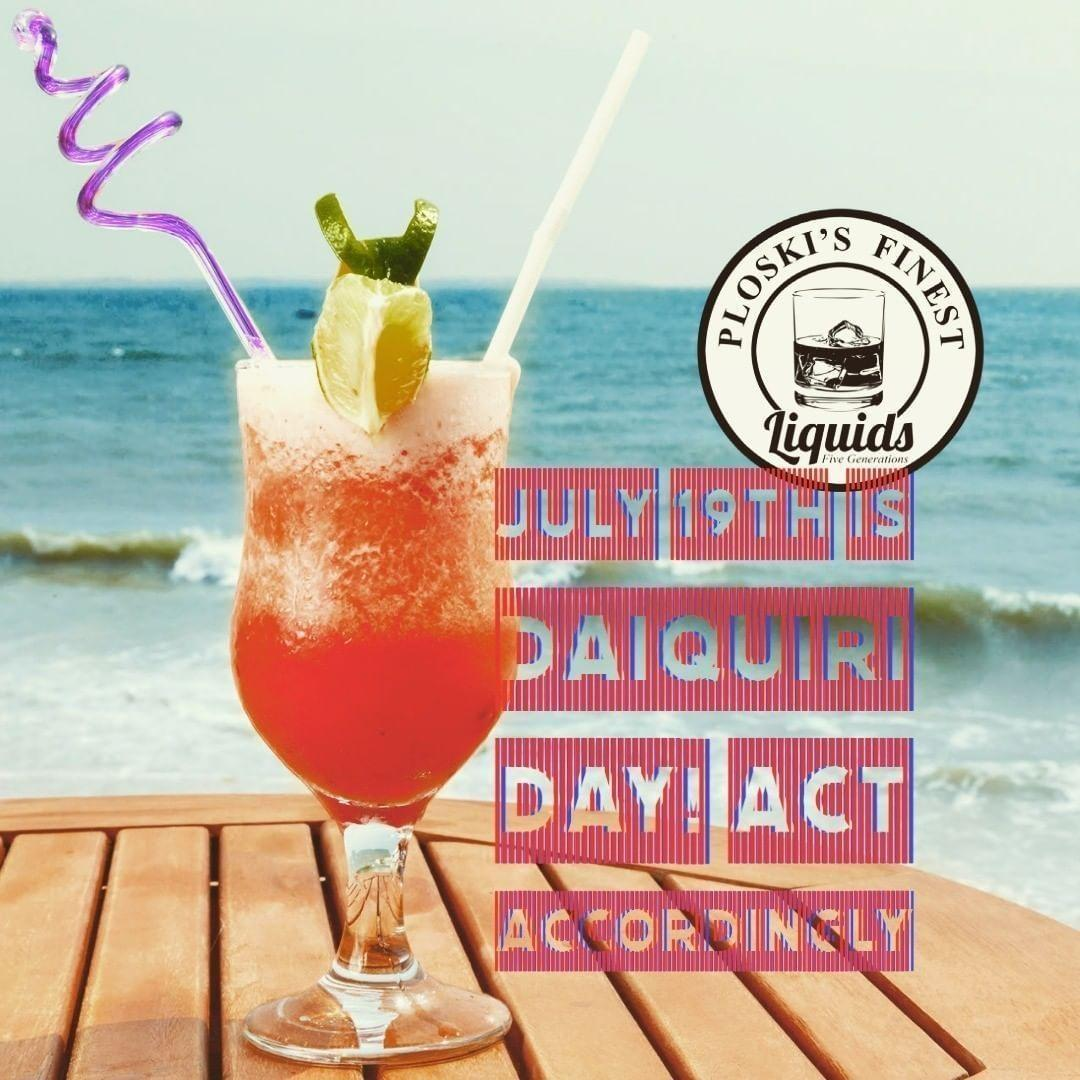glass-wine: (214, 343, 538, 1080)
